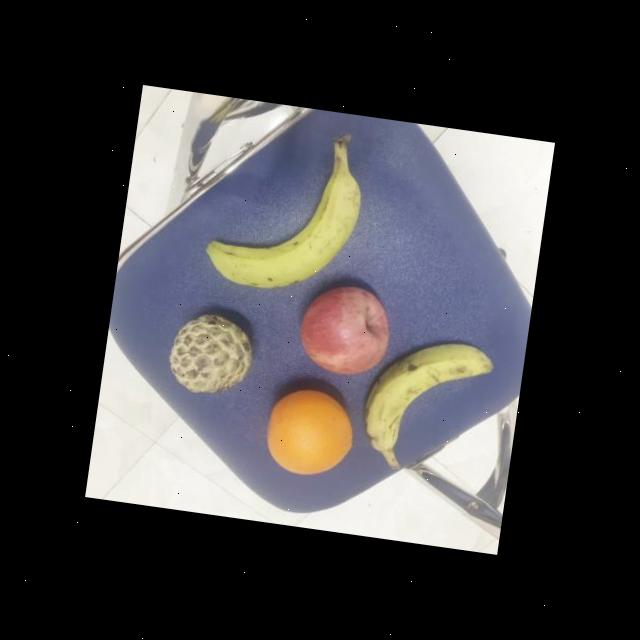Sakya fruit: (164, 309, 262, 403)
apple: (290, 278, 396, 381)
banana: (196, 140, 368, 300), (359, 324, 497, 464)
orange: (258, 382, 360, 483)
